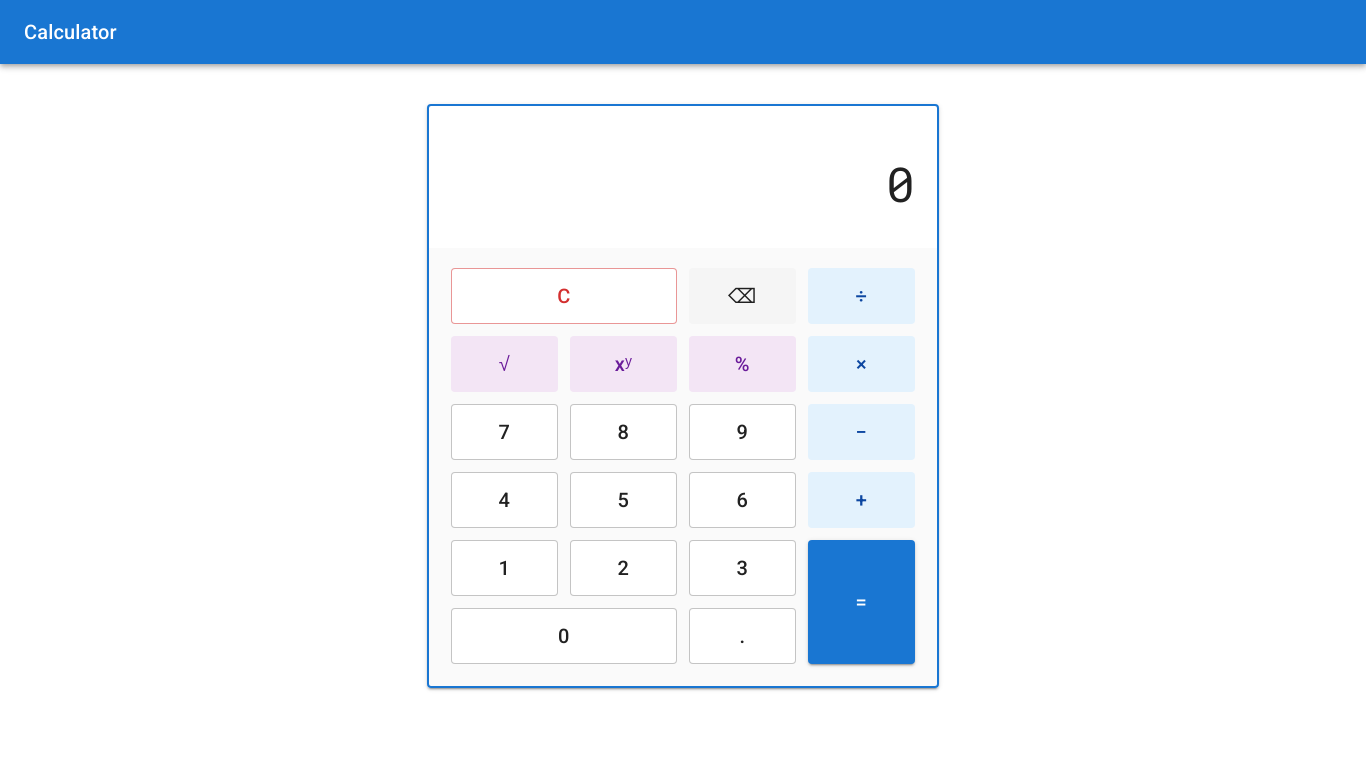
it: errors › keeps the typed number when the server can't be reached
Click the button "2": (624, 568) [570, 540, 677, 596]
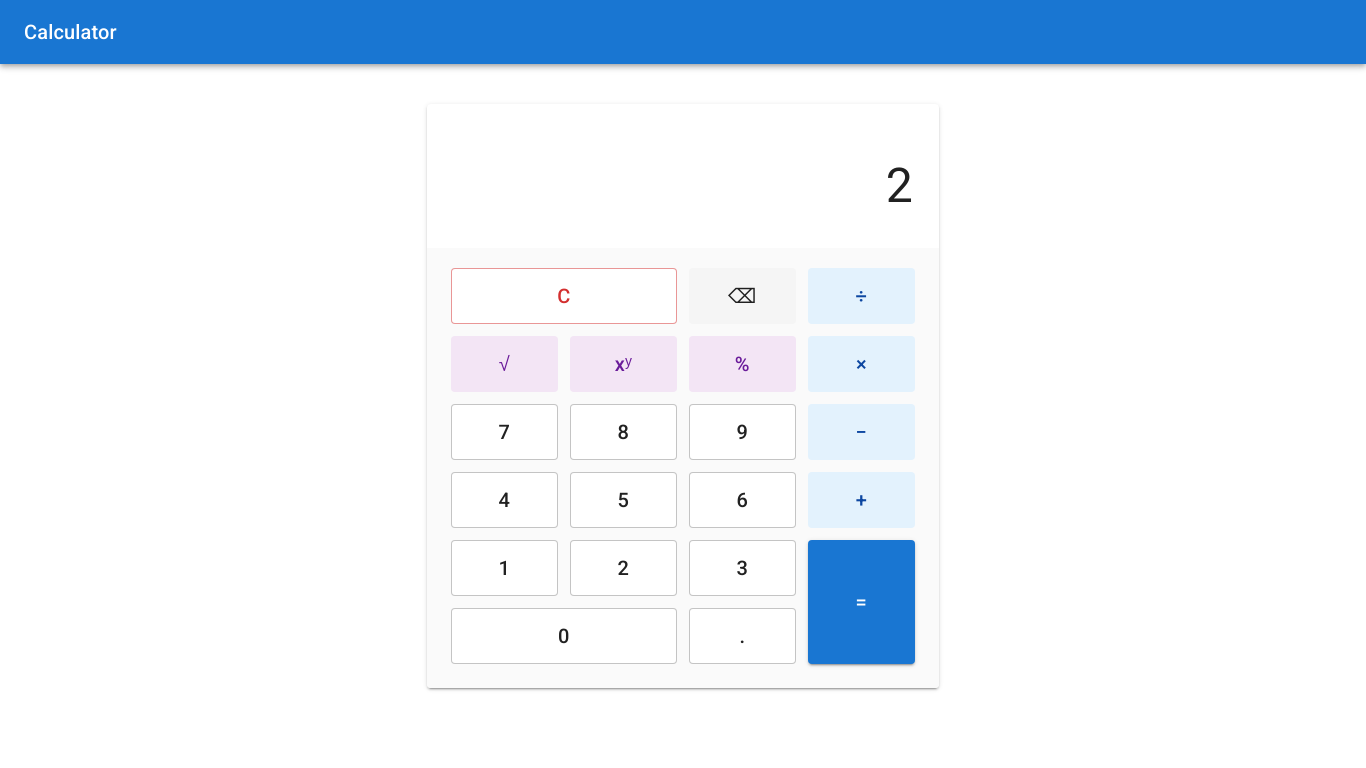
Click the button named "Plus": (862, 500) [808, 472, 915, 528]
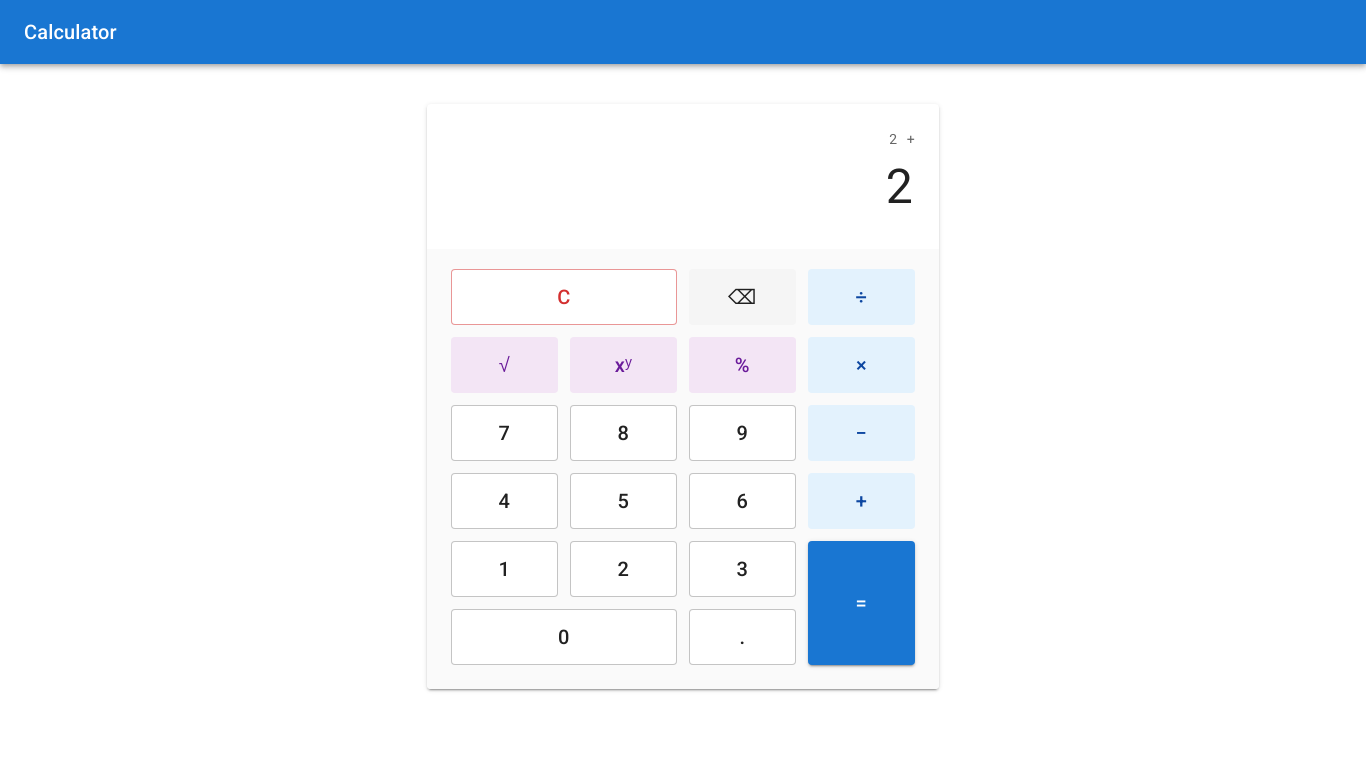
Click the button "3": (742, 569) [689, 541, 796, 597]
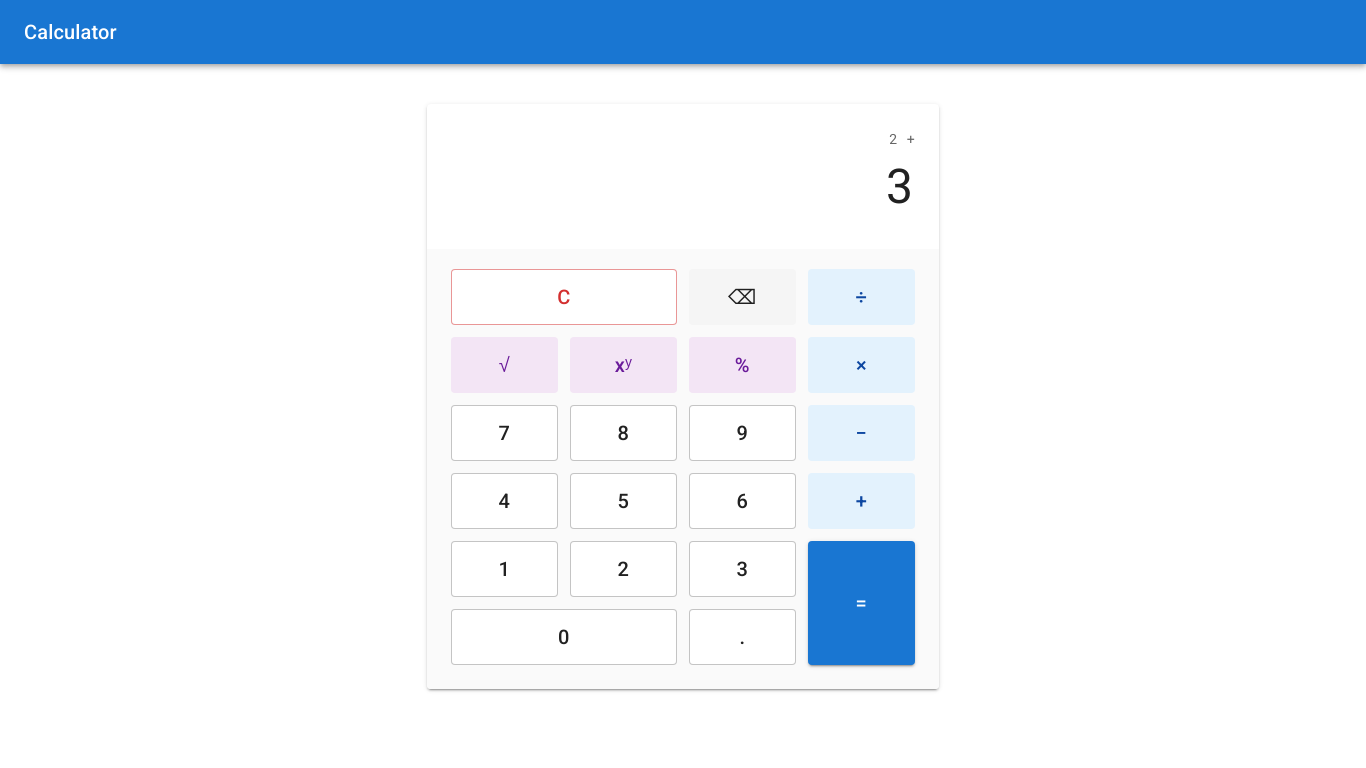
Click the button named "Equals": (862, 603) [808, 541, 915, 665]
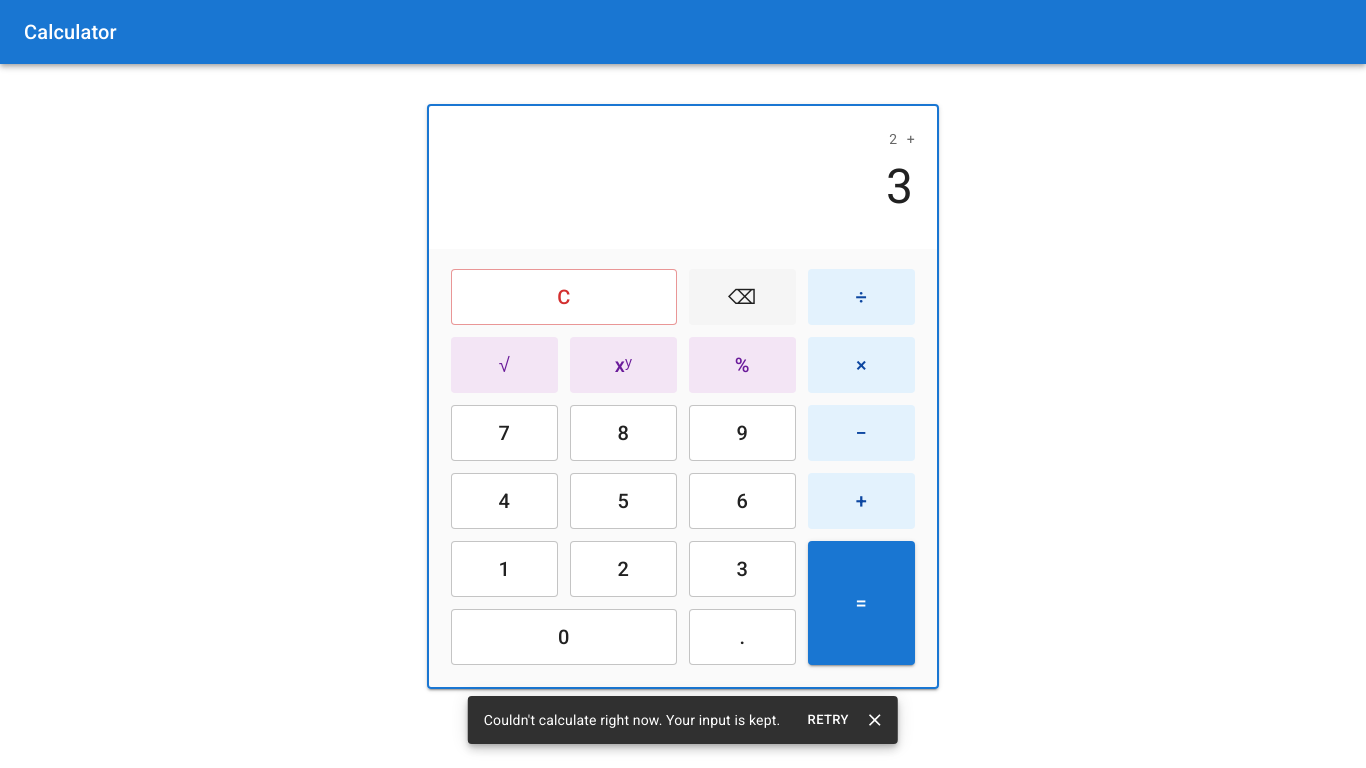
expect the text with test id "value" reads "3": met, box [886, 153, 915, 216]
expect the text "Couldn't calculate right now. Your input is kept." is shown: met, box [484, 712, 780, 728]
